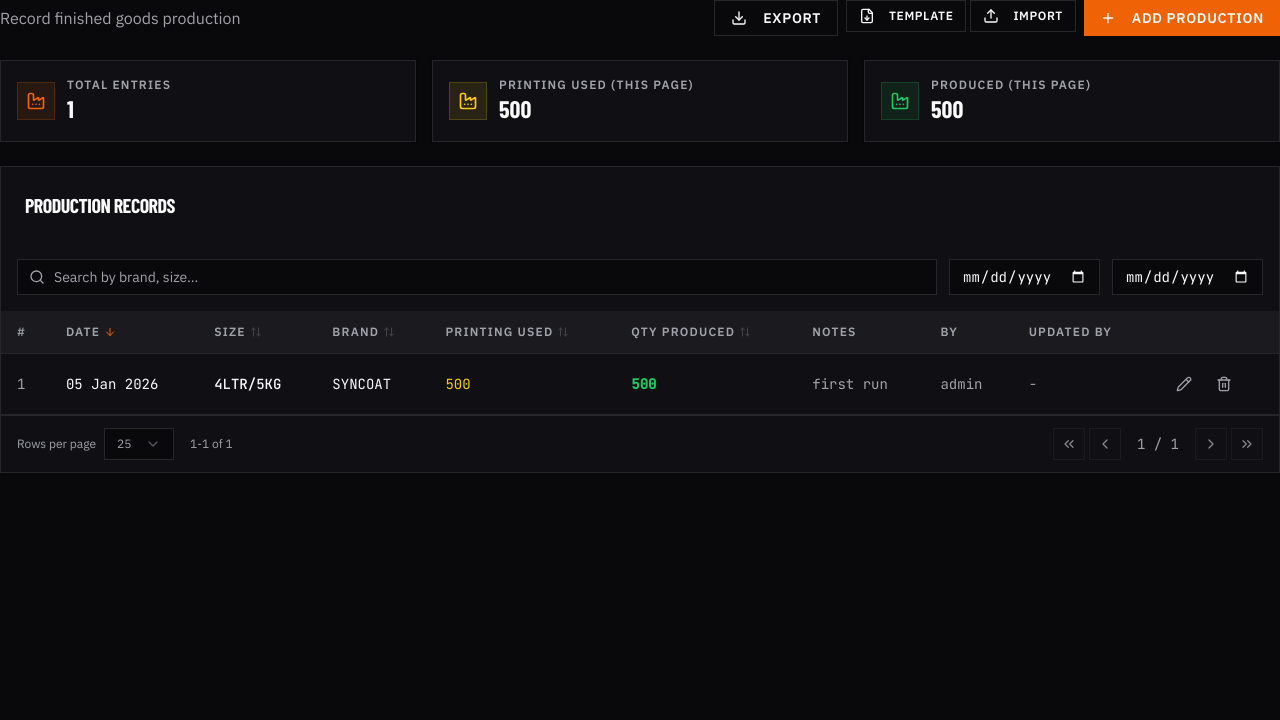
Test case: names the missing size and brand instead of one generic message
This screenshot has width=1280, height=720.
Expected: the table with test id "production-table" is shown, top-left (1, 311), bottom-right (1279, 415)
Click the button with test id "add-production-btn".
click(1182, 18)  # box top-left (1084, 0), bottom-right (1279, 36)
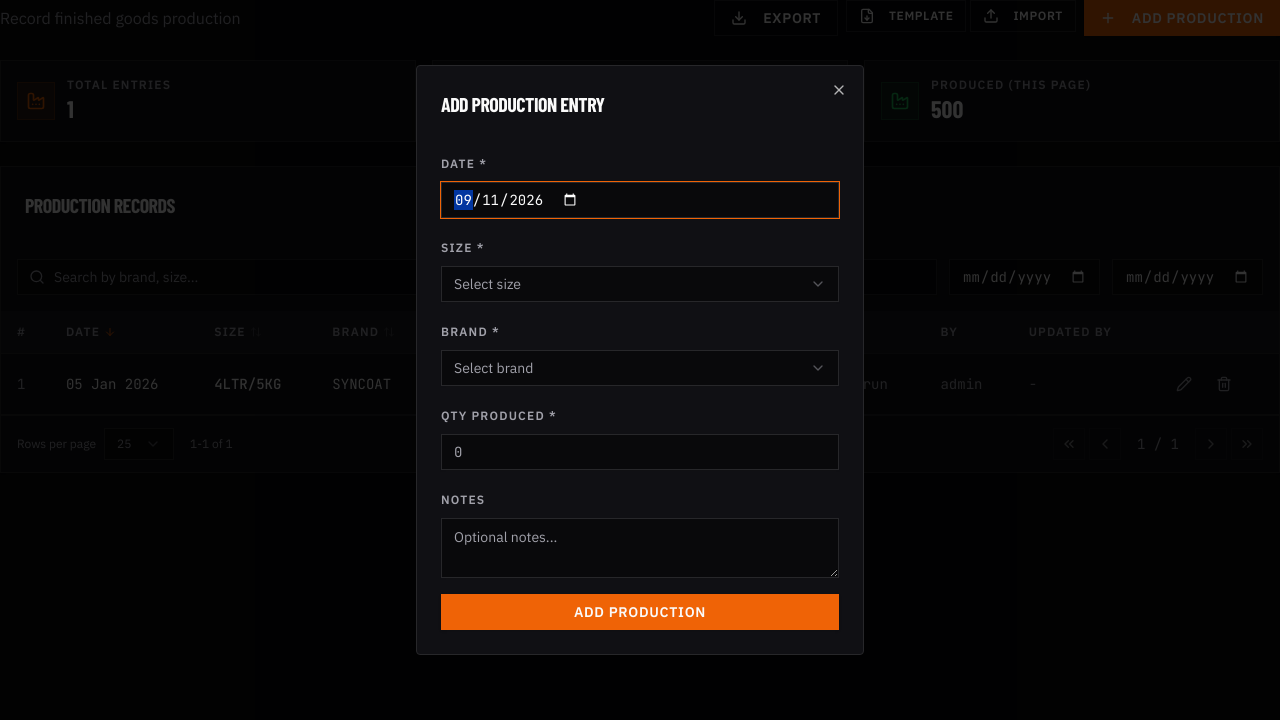
Type "100" into the number field with test id "prod-quantity".
click(640, 452); type("100")  # box top-left (441, 434), bottom-right (839, 470)
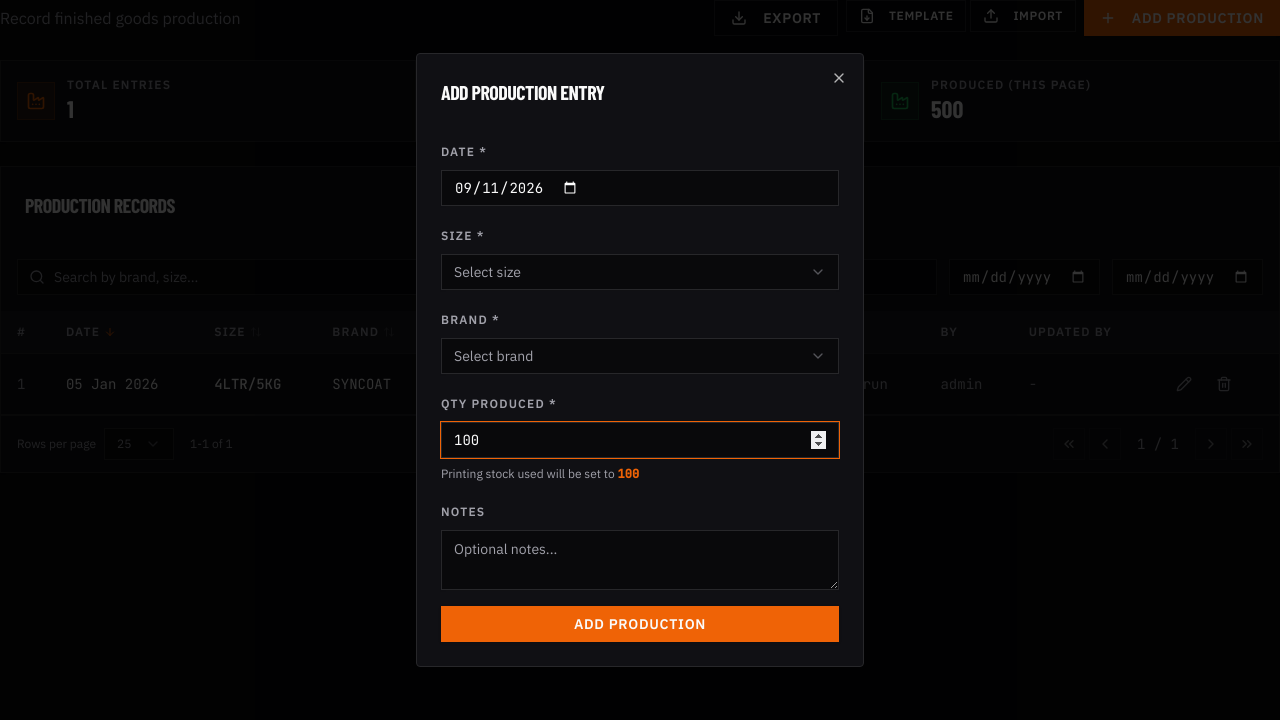
Click the button with test id "submit-production".
click(640, 624)  # box top-left (441, 606), bottom-right (839, 642)
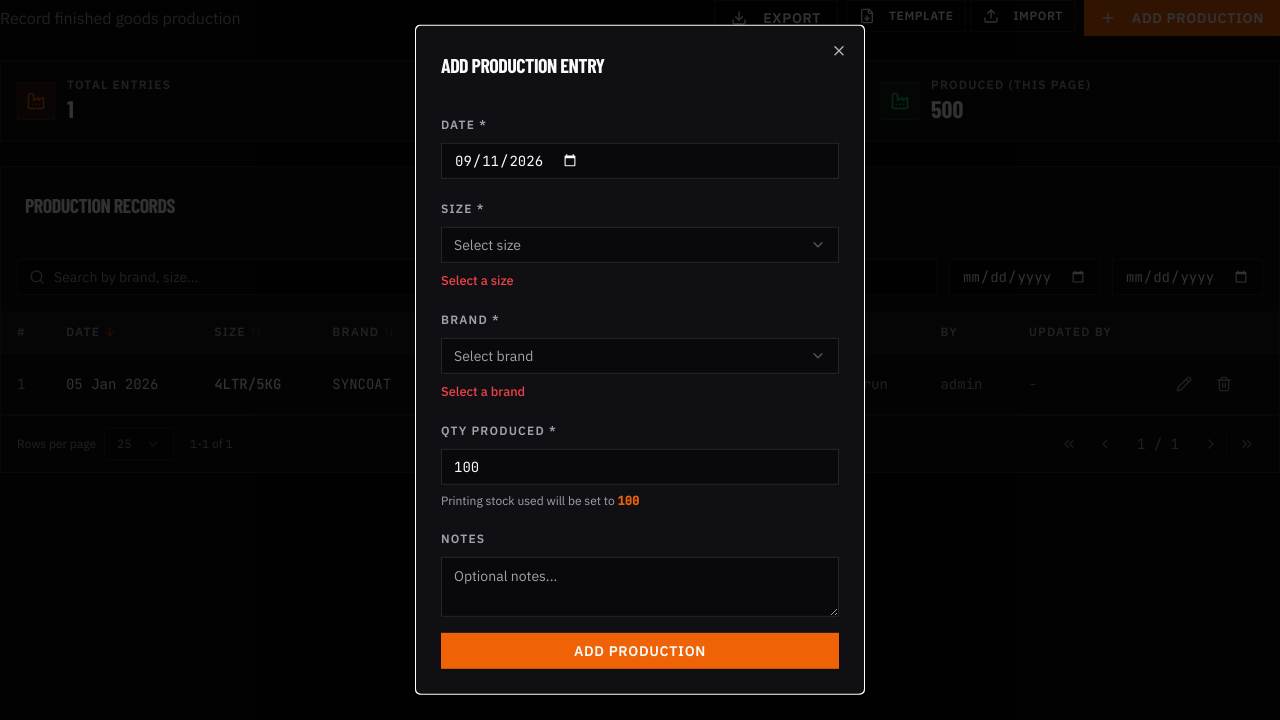
Now the text "Select a size" is shown, box top-left (441, 272), bottom-right (514, 289)
Now the text "Select a brand" is shown, box top-left (441, 383), bottom-right (525, 400)
